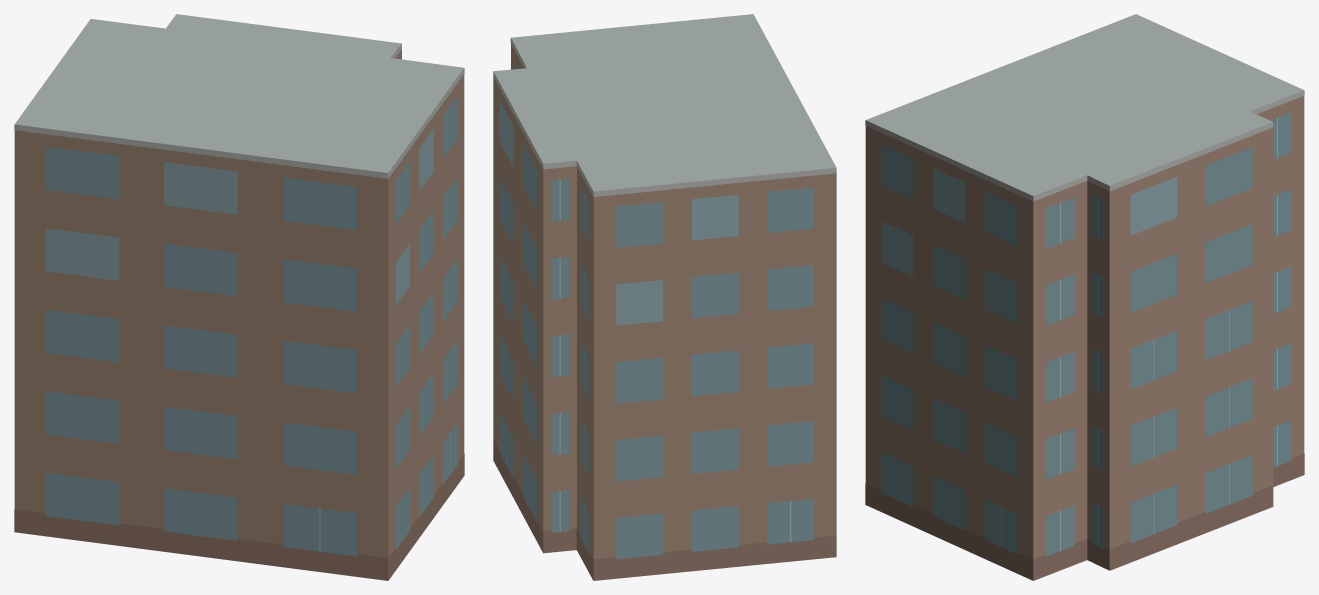
The model's file is survey-upis-32839020.glb.
3 renders of one model, left to right at view 1: azimuth 30°, elevation 25°; view 2: azimuth 150°, elevation 25°; view 3: azimuth 270°, elevation 25°, orthographic. The views are drawn at different scales.
Visible parts, largest first — view 1: survey-upis-32839020.tmp; view 2: survey-upis-32839020.tmp; view 3: survey-upis-32839020.tmp.
Part boxes in pixels (<box>): survey-upis-32839020.tmp: <box>14,14,464,580</box>; survey-upis-32839020.tmp: <box>493,14,836,580</box>; survey-upis-32839020.tmp: <box>865,14,1304,580</box>.
Size of the model in its own units: 17.67 by 17.4 by 18.
